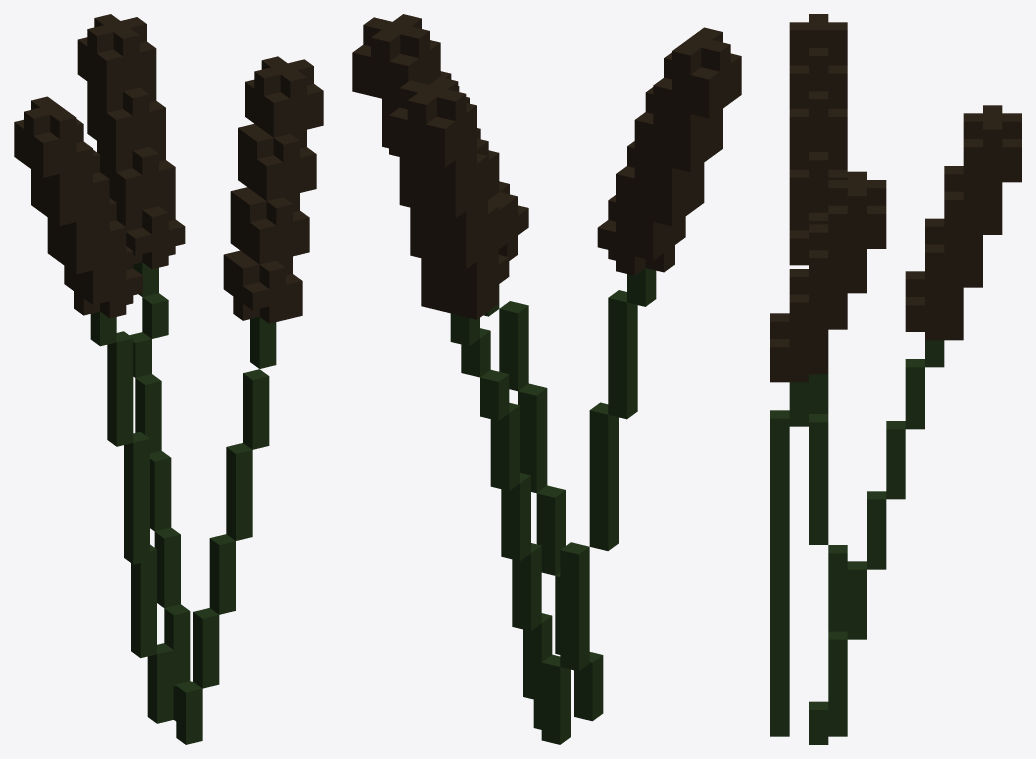
File: Cattails.obj
3 renders of one model, left to right at view 1: azimuth 30°, elevation 25°; view 2: azimuth 150°, elevation 25°; view 3: azimuth 270°, elevation 25°, orthographic. The views are drawn at different scales.
Visible parts, largest first — view 1: Cattails; view 2: Cattails; view 3: Cattails.
Boxes of the visible parts, x1,y1,x2,y2 form: Cattails: (14,14,323,744); Cattails: (352,14,741,744); Cattails: (770,14,1021,744).
Size of the model in its own units: 18 by 37 by 13.
1 material, 1 textured.
